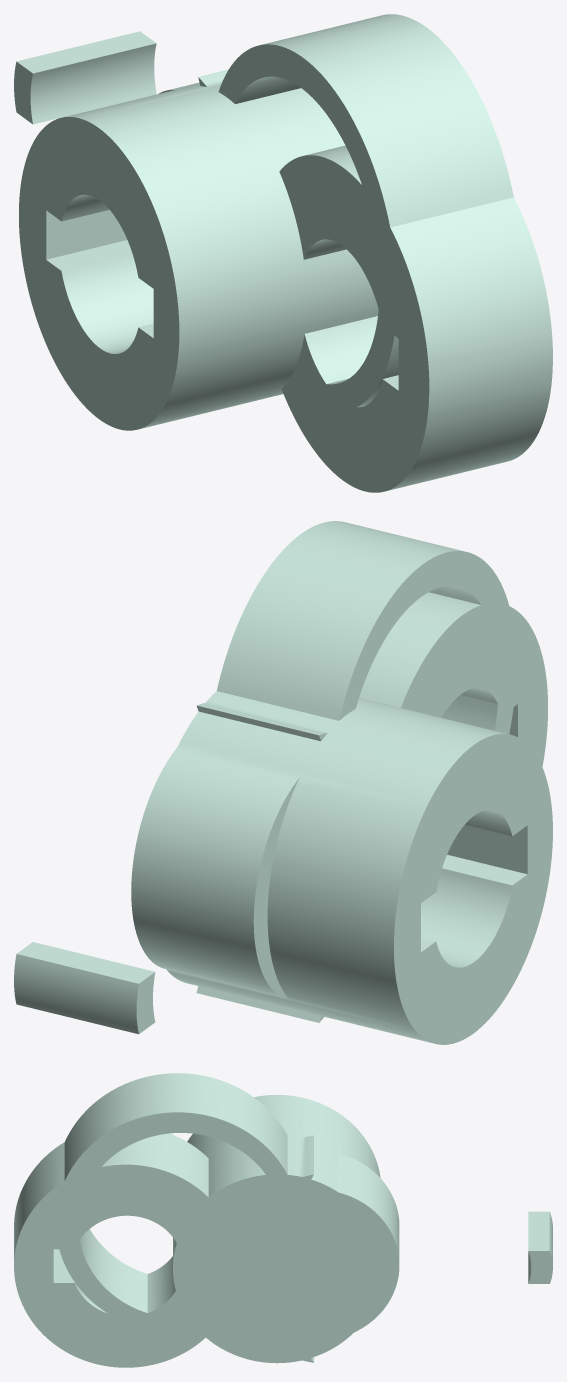
3 views of the same model, one above another, from view 1: azimuth 30°, elevation 25°; view 2: azimuth 150°, elevation 25°; view 3: azimuth 270°, elevation 25° (orthographic). The views are drawn at different scales.
Visible parts, largest first — view 1: Renderer Node; view 2: Renderer Node; view 3: Renderer Node.
Part boxes in pixels (bbox=[...]): Renderer Node: bbox=[14, 14, 552, 492]; Renderer Node: bbox=[14, 521, 552, 1044]; Renderer Node: bbox=[14, 1073, 552, 1367].
Size of the model in its own units: 0.5234 by 0.7842 by 1.5.
